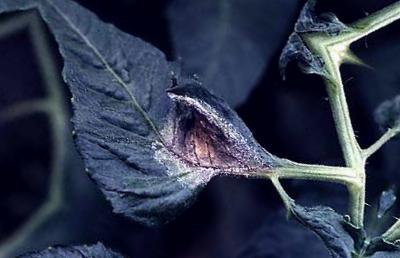Tomato leaf late blight: (0, 0, 307, 258)
